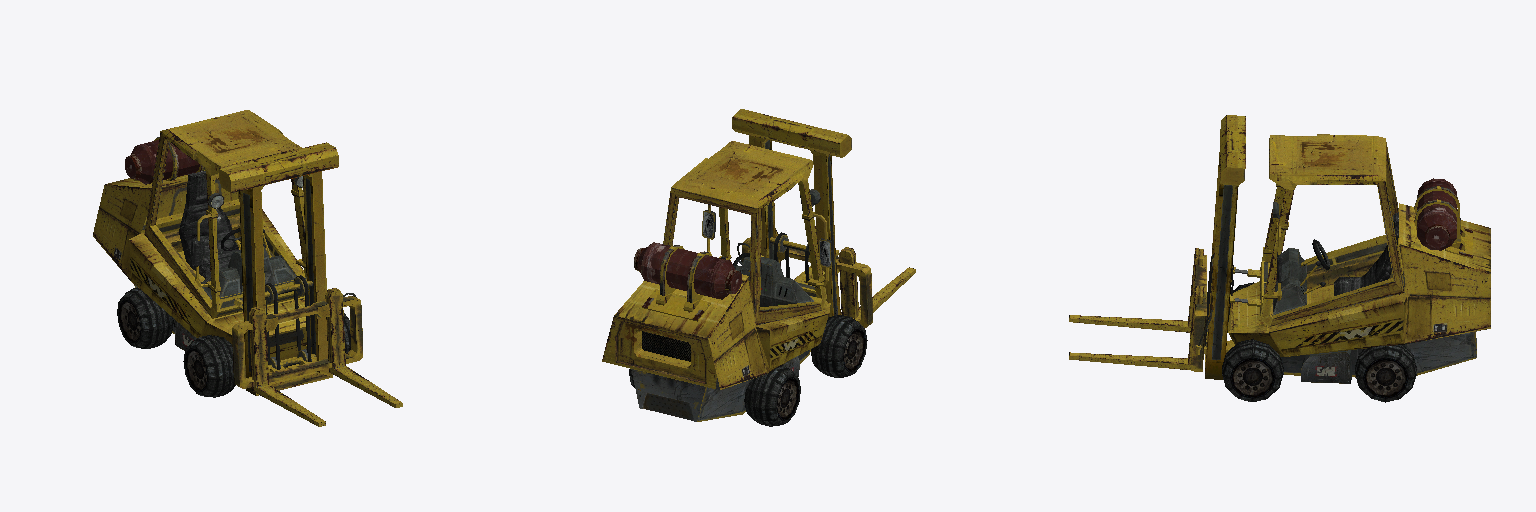
3 views of the same model, side by side, from view 1: azimuth 30°, elevation 25°; view 2: azimuth 150°, elevation 25°; view 3: azimuth 270°, elevation 25° (orthographic).
Visible parts, largest first — view 1: Forklift; view 2: Forklift; view 3: Forklift.
Part boxes in pixels (x1,y1,x2,y2): Forklift: (93,110,402,426); Forklift: (602,109,915,426); Forklift: (1069,115,1490,402).
Bounding box in the file's own units: 3.81 × 5.72 × 9.53.
Materials: 1 (1 with a texture image).